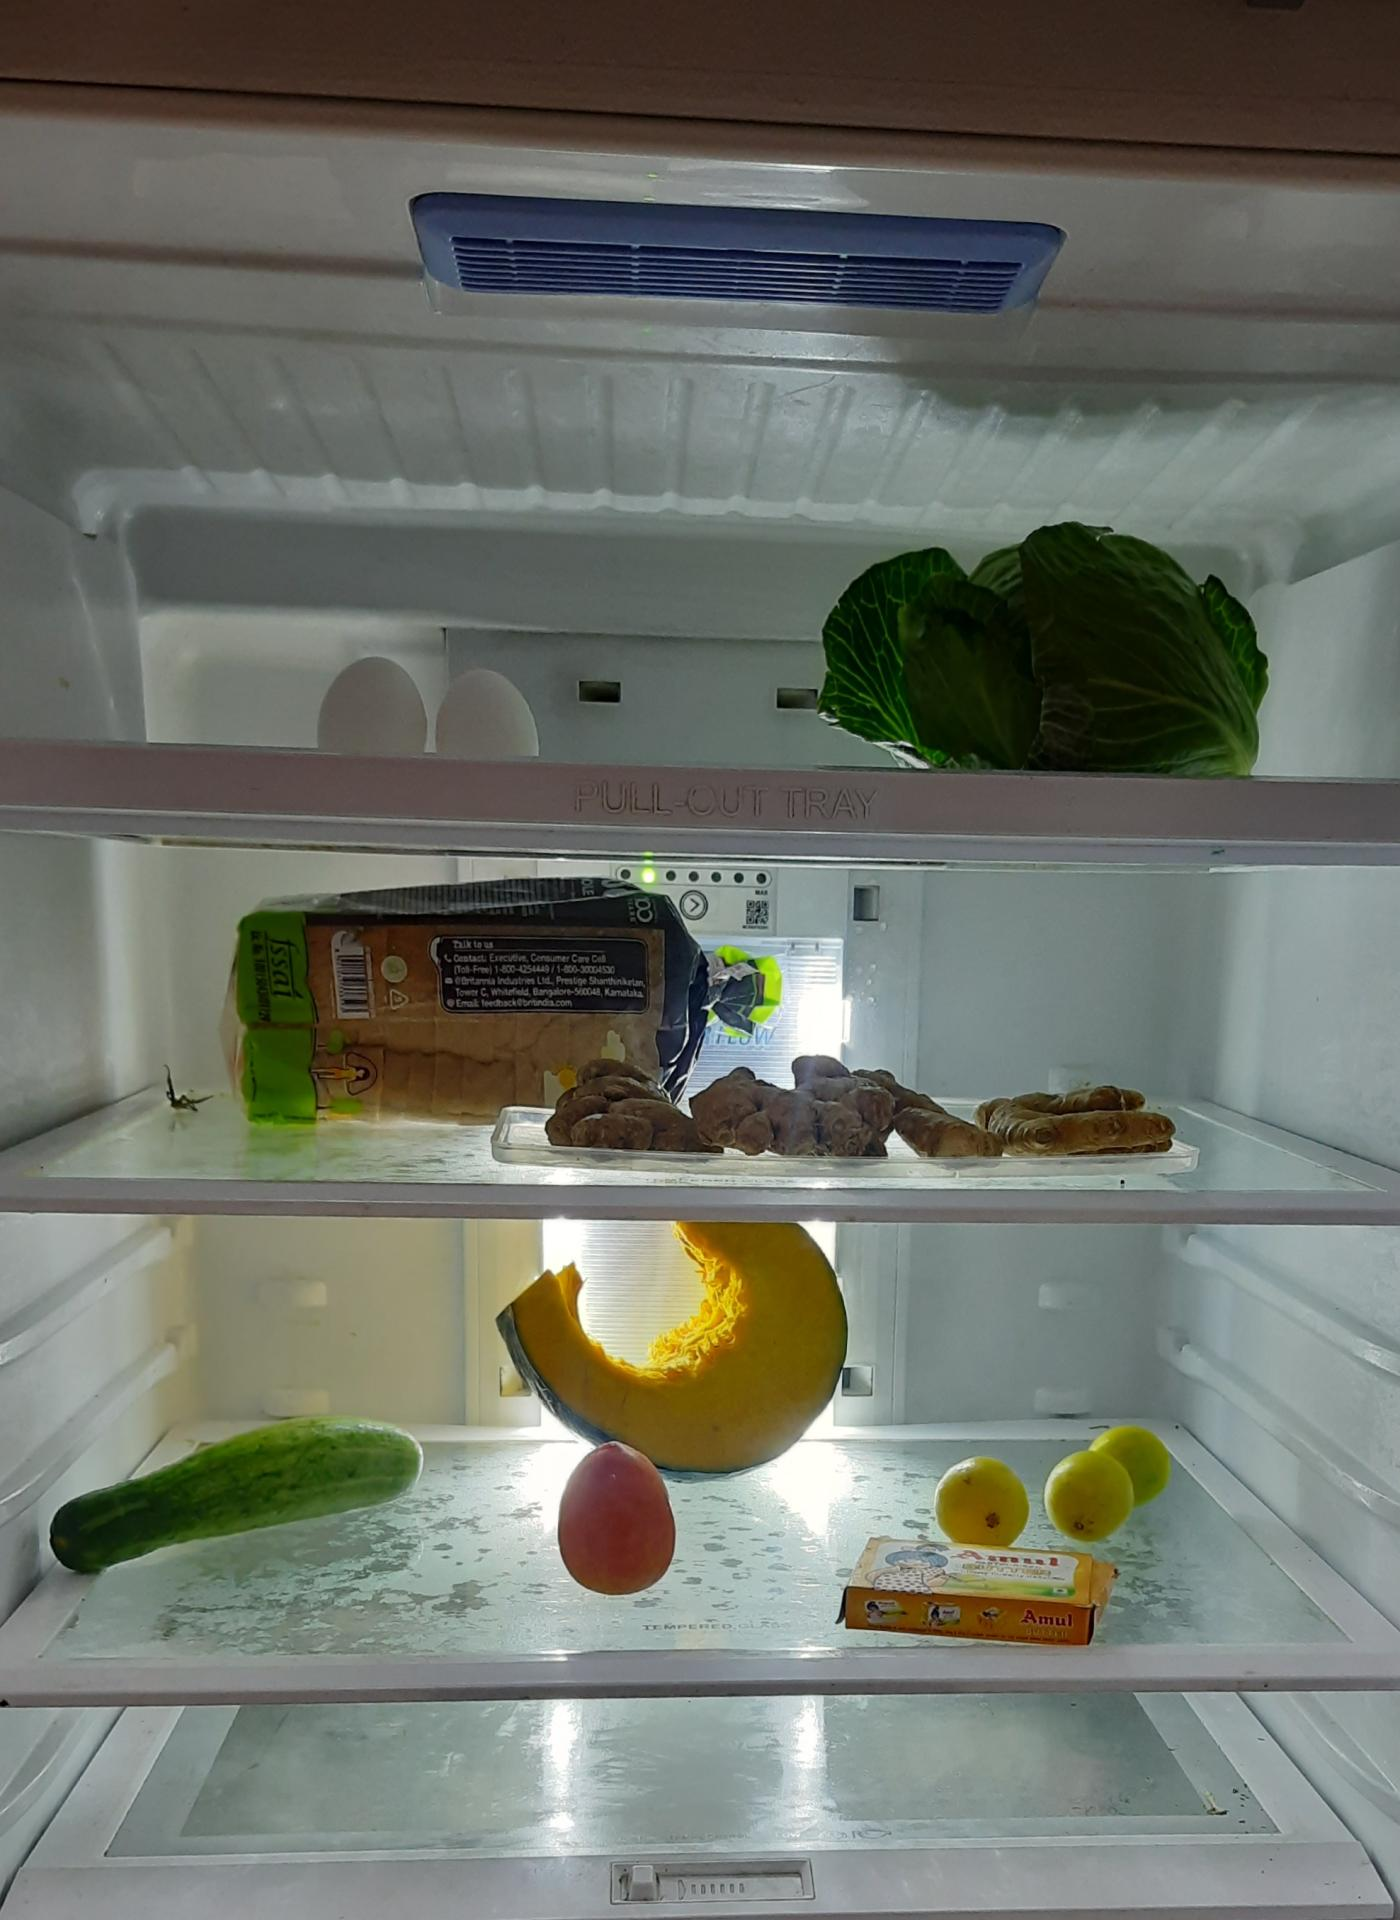bread: (234, 891, 760, 1124)
butter: (835, 1550, 1115, 1655)
cabbage: (817, 519, 1272, 774)
cucumber: (36, 1400, 416, 1574)
egg: (321, 665, 546, 765)
ginger: (559, 1063, 1188, 1185), (696, 1051, 1030, 1155)
lemon: (1042, 1422, 1175, 1537), (936, 1455, 1033, 1552)
pumpkin: (502, 1216, 857, 1470)
tomato: (556, 1443, 680, 1592)
